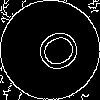O: (25, 25, 84, 82)
